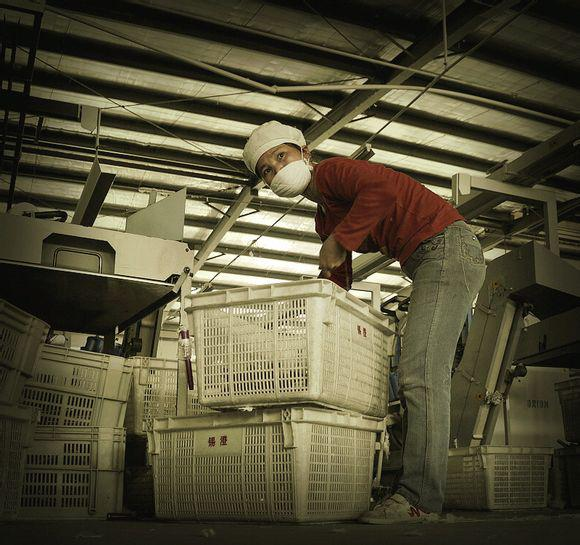WRONG: (259, 146, 309, 197)
